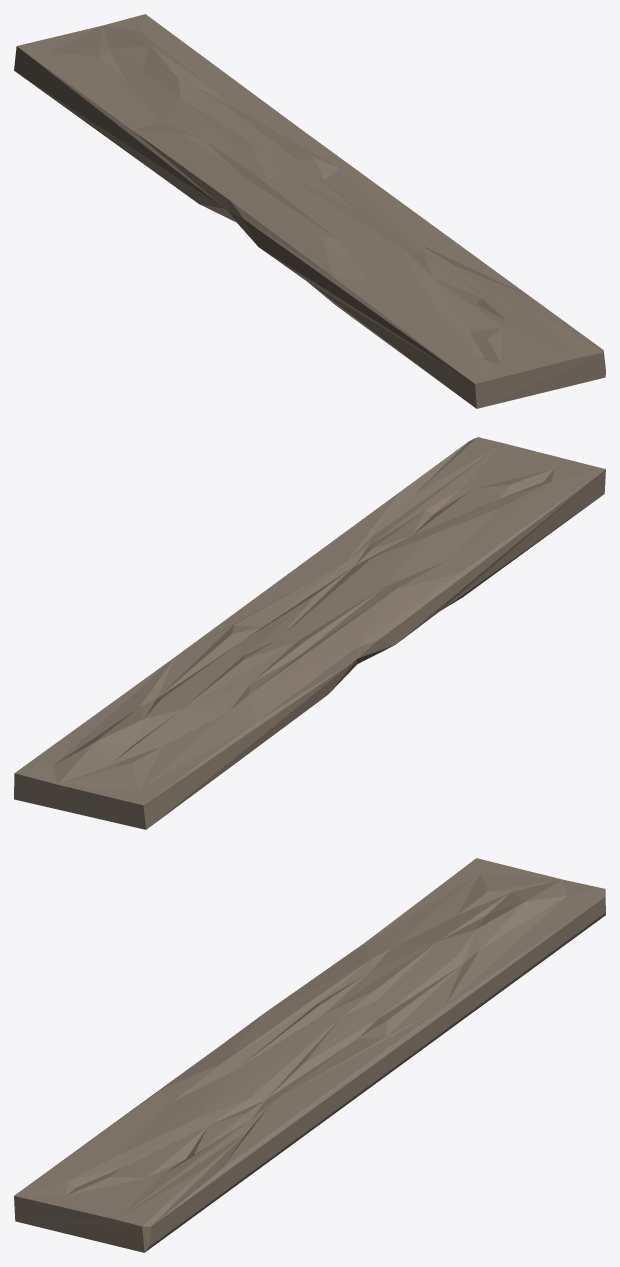
File: SM_plank_02.fbx
3 views of the same model, one above another, from view 1: azimuth 30°, elevation 25°; view 2: azimuth 150°, elevation 25°; view 3: azimuth 330°, elevation 25° (orthographic).
Parts seen in each view (by area): view 1: plank_02; view 2: plank_02; view 3: plank_02.
Boxes of the visible parts, left/top/right/bottom form: plank_02: left=14, top=14, right=605, bottom=408; plank_02: left=14, top=437, right=605, bottom=829; plank_02: left=14, top=858, right=605, bottom=1252.
Size of the model in its own units: 47.54 by 13.22 by 279.
